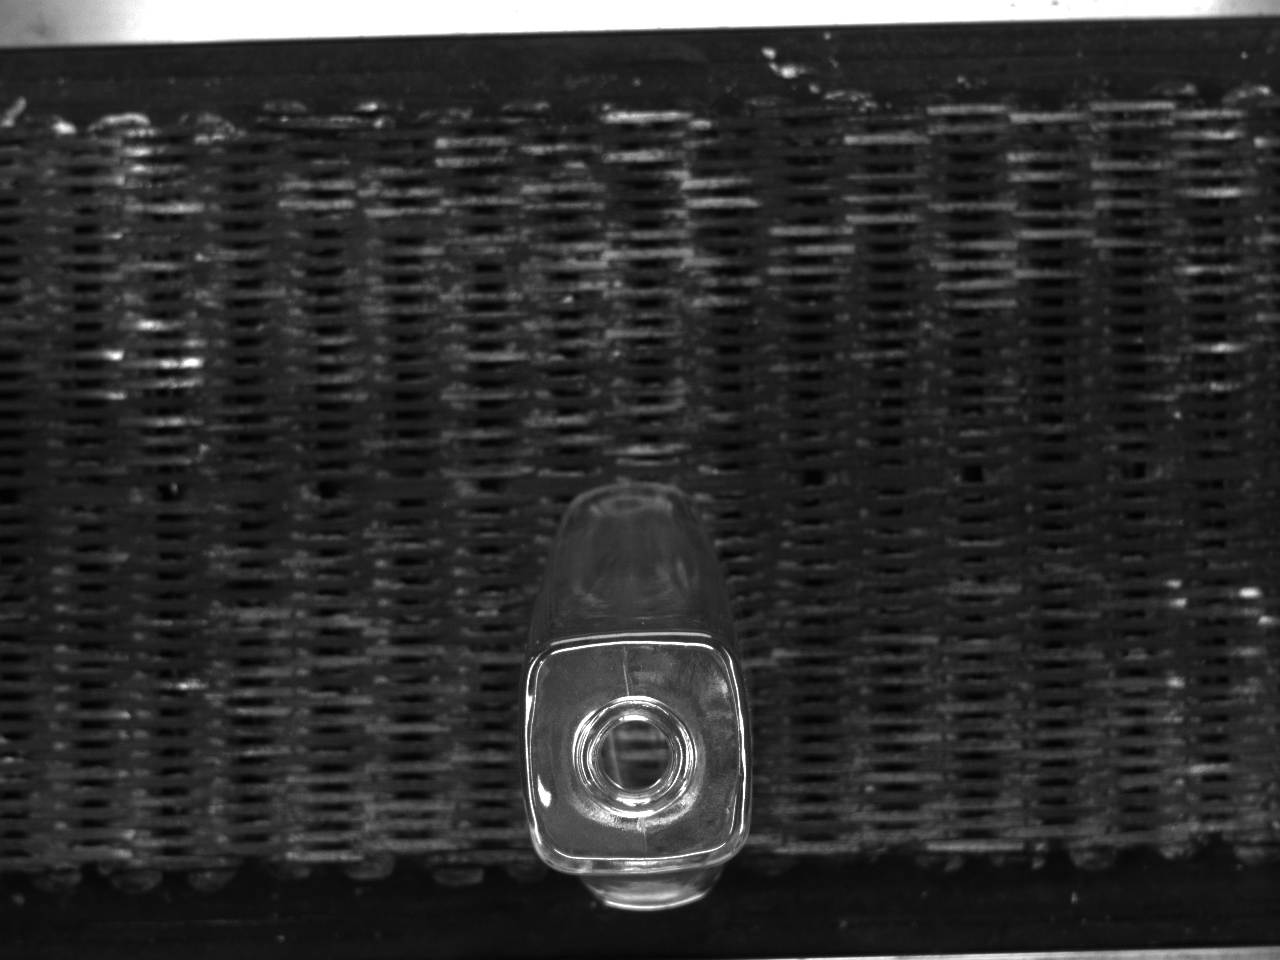bottleneck: (573, 696, 698, 816)
